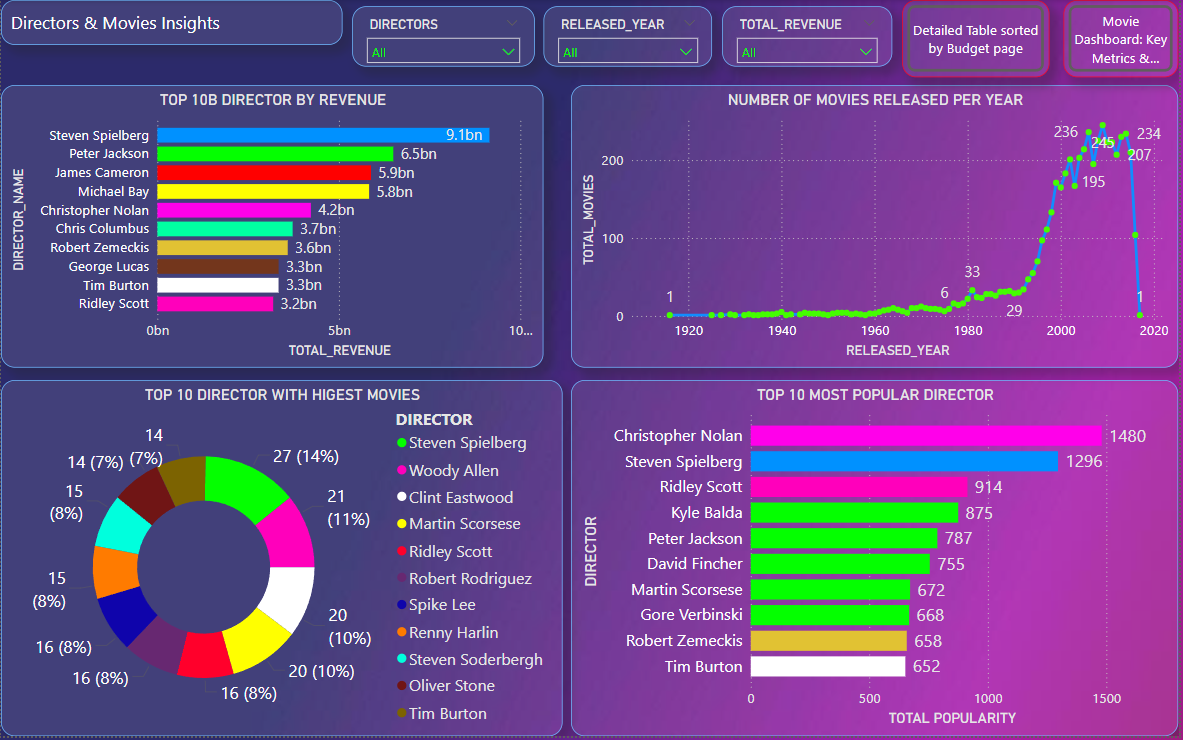

The dashboard page shown, as its layout file describes it:
{"tool":"powerbi","page":{"name":"Directors & movies Insights","canvas":[1280,800],"ordinal":1},"visuals":[{"type":"textbox","box":[0,0,370.9,48.9],"z":0},{"type":"barChart","title":"TOP 10B DIRECTOR BY REVENUE","fields":{"Category":["Sheet1.name"],"Y":["Sheet1.revenue"]},"box":[0,92.4,589.7,307.1],"z":1000},{"type":"donutChart","title":"TOP 10 DIRECTOR WITH HIGEST MOVIES","fields":{"Y":["Sheet1.original_title"],"Category":["Sheet1.name"]},"box":[0,413,610.1,387.2],"z":2000},{"type":"lineChart","title":"NUMBER OF MOVIES RELEASED PER YEAR","fields":{"Category":["Sheet1.released_year"],"Y":["Sheet1.original_title"]},"box":[619.6,92.4,660.3,307.1],"z":3000},{"type":"barChart","title":"TOP 10 MOST POPULAR DIRECTOR","fields":{"Category":["Sheet1.name"],"Y":["Sheet1.popularity"]},"box":[619.6,413,660.3,387.2],"z":4000},{"type":"slicer","fields":{"Values":["Sheet1.name"]},"box":[381.8,6.8,198.4,65.2],"z":5000},{"type":"slicer","fields":{"Values":["Sheet1.released_year"]},"box":[589.7,6.8,183.4,65.2],"z":6000},{"type":"slicer","fields":{"Values":["Sheet1.revenue"]},"box":[784,6.8,184.8,65.2],"z":7000},{"type":"actionButton","box":[979.6,0,160.3,84.2],"z":8000},{"type":"actionButton","box":[1154.9,0,125,84.2],"z":9000}]}

Visuals, with their boxes in screenshot pixels (x1, y1, x2, y2), scaled from the page's 1280x800 canvas onto the 1183x740 screenshot:
textbox: bbox=[0, 0, 343, 45]
"TOP 10B DIRECTOR BY REVENUE" barChart: bbox=[0, 85, 545, 370]
"TOP 10 DIRECTOR WITH HIGEST MOVIES" donutChart: bbox=[0, 382, 564, 739]
"NUMBER OF MOVIES RELEASED PER YEAR" lineChart: bbox=[573, 85, 1182, 370]
"TOP 10 MOST POPULAR DIRECTOR" barChart: bbox=[573, 382, 1182, 739]
slicer - Sheet1.name: bbox=[353, 6, 536, 67]
slicer - Sheet1.released_year: bbox=[545, 6, 715, 67]
slicer - Sheet1.revenue: bbox=[725, 6, 895, 67]
actionButton: bbox=[905, 0, 1054, 78]
actionButton: bbox=[1067, 0, 1182, 78]
